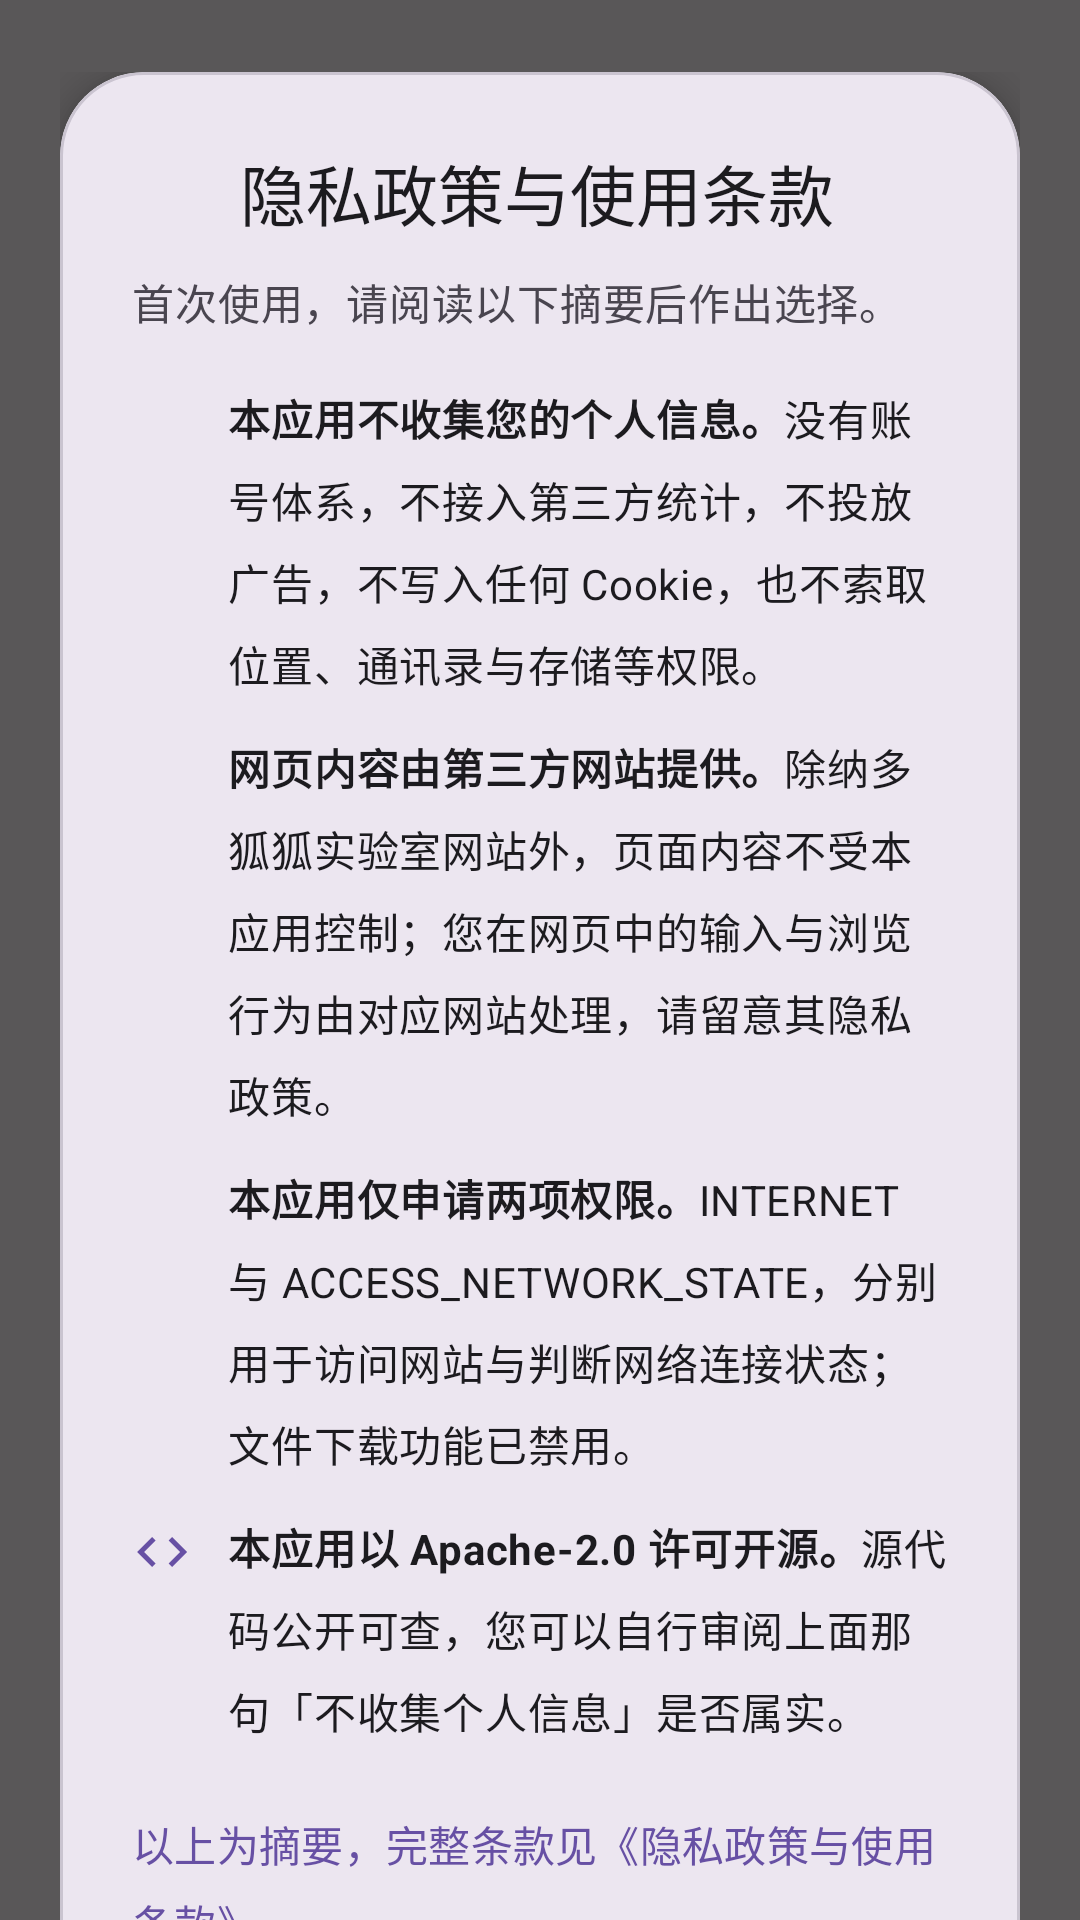

Screen size 1080w x 1920h. Icon name, then its center in pixels as (x,y):
code: (162,1552)
